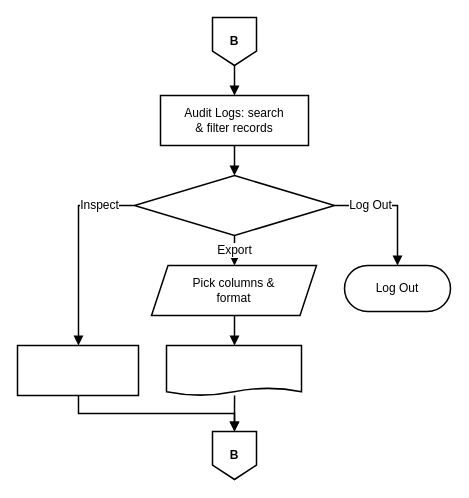
Image size: 469x498. Some labels were removed from this diagram. Here are the shapes that lost their labels. From the top down, the centre of each, then its label:
At [234,205]: "Select action?".
At [77,370]: "Expand old/new diff & reason".
At [233,370]: "Export CSV, JSON or Excel".
